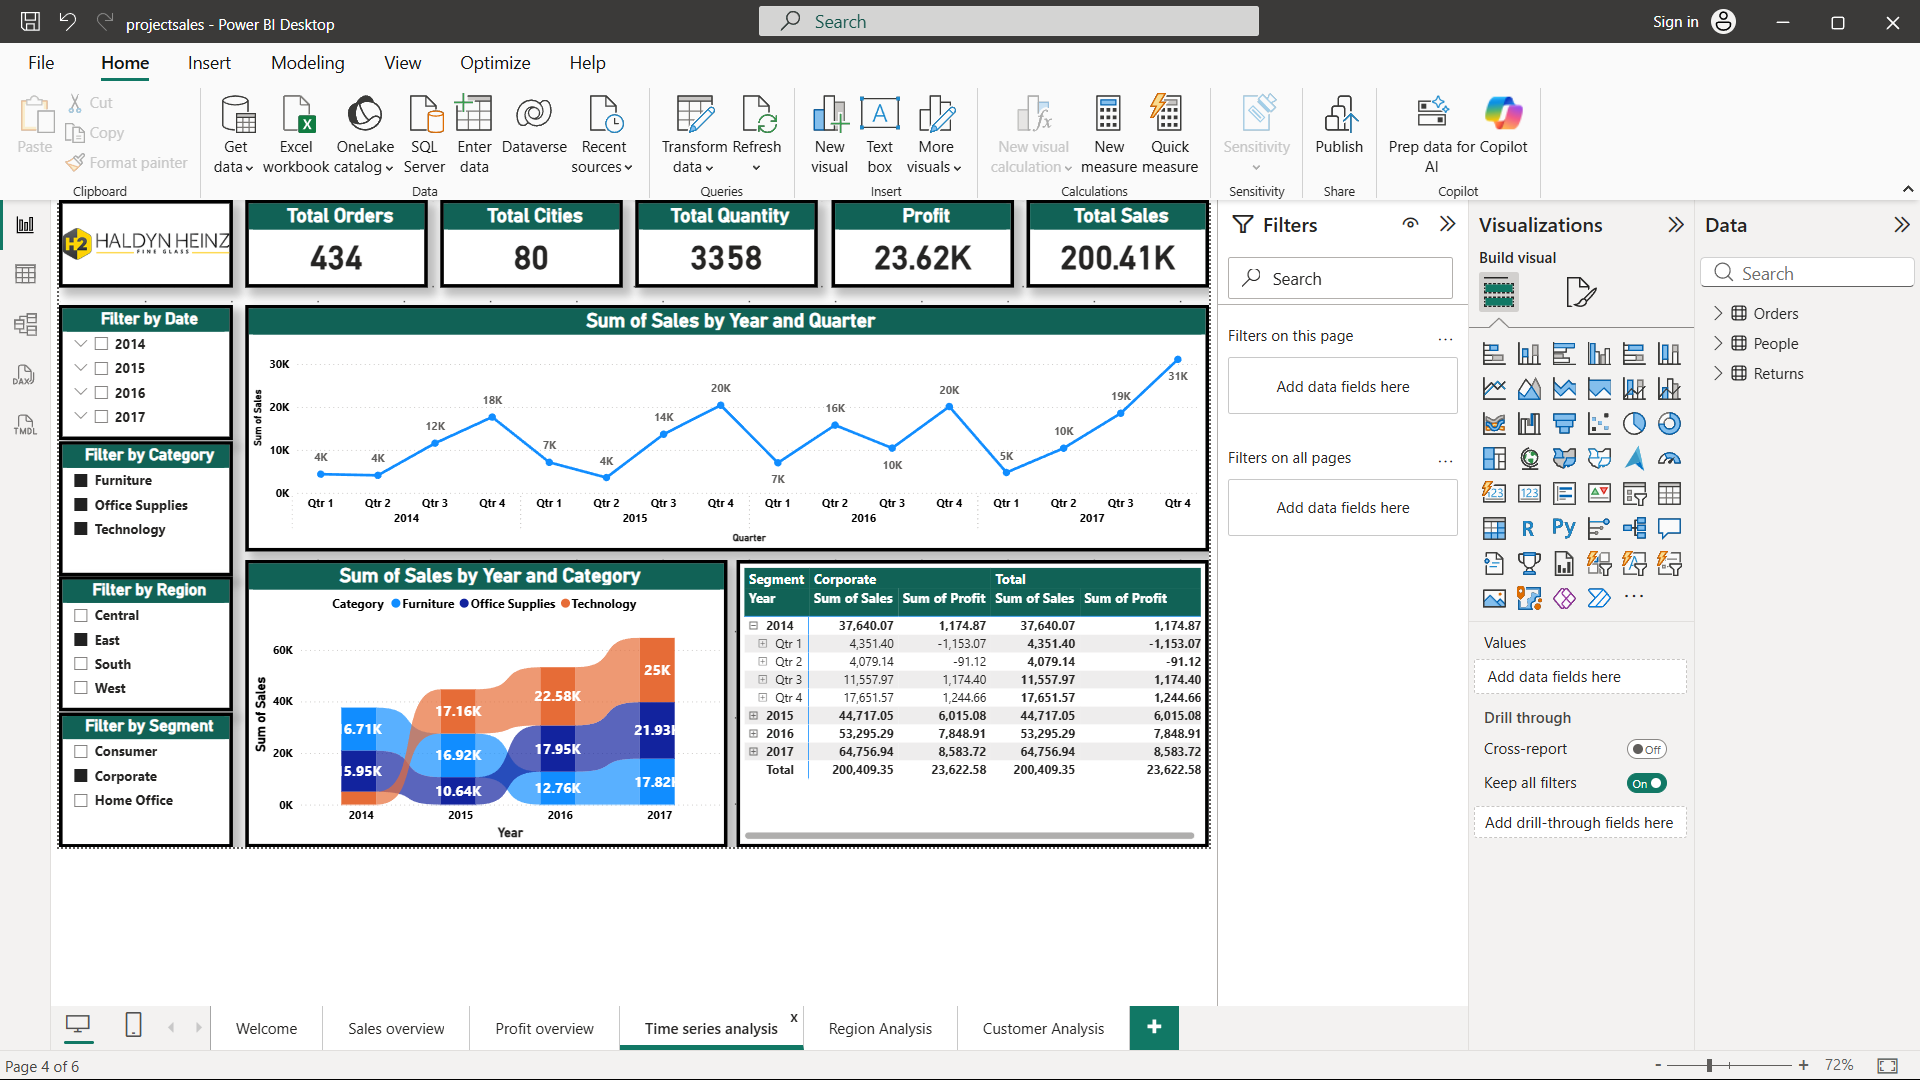

This screenshot's page, from the dashboard's own definition file:
{"tool":"powerbi","page":{"name":"Time series analysis","canvas":[1280,720],"ordinal":3},"visuals":[{"type":"image","box":[0,0,193.4,97.4],"z":0},{"type":"card","title":"Total Orders","fields":{"Values":["Count(Orders.Order ID)"]},"box":[207.3,0,203.1,97.4],"z":1000},{"type":"card","title":"Total Cities","fields":{"Values":["Count(Orders.City)"]},"box":[424.7,0,203.1,97.4],"z":2000},{"type":"card","title":"Total Quantity","fields":{"Values":["Sum(Orders.Quantity)"]},"box":[642.1,0,203.1,97.4],"z":3000},{"type":"card","title":"Profit","fields":{"Values":["Sum(Orders.Profit)"]},"box":[859.5,0,203.1,97.4],"z":4000},{"type":"card","title":"Total Sales","fields":{"Values":["Sum(Orders.Sales)"]},"box":[1076.9,0,203.1,97.4],"z":5000},{"type":"slicer","title":"Filter by Date","fields":{"Values":["Orders.Order Date.Variation.Date Hierarchy.Year","Orders.Order Date.Variation.Date Hierarchy.Quarter","Orders.Order Date.Variation.Date Hierarchy.Month","Orders.Order Date.Variation.Date Hierarchy.Day"]},"box":[0,116.9,193.4,150.3],"z":6000},{"type":"slicer","title":"Filter by Category","fields":{"Values":["Orders.Category"]},"box":[0,268.1,193.4,150.3],"z":7000},{"type":"slicer","title":"Filter by Region","fields":{"Values":["Orders.Region"]},"box":[0,419.2,193.4,150.3],"z":8000},{"type":"slicer","title":"Filter by Segment","fields":{"Values":["Orders.Segment"]},"box":[0,569.7,193.4,150.3],"z":9000},{"type":"lineChart","fields":{"Category":["Orders.Order Date.Variation.Date Hierarchy.Year","Orders.Order Date.Variation.Date Hierarchy.Quarter","Orders.Order Date.Variation.Date Hierarchy.Month","Orders.Order Date.Variation.Date Hierarchy.Day"],"Y":["Sum(Orders.Sales)"]},"box":[207.3,116.9,1072.7,274.1],"z":10000},{"type":"ribbonChart","fields":{"Category":["Orders.Order Date.Variation.Date Hierarchy.Year"],"Y":["Sum(Orders.Sales)"],"Series":["Orders.Category"]},"box":[207.3,400.7,537,320],"z":11000},{"type":"pivotTable","fields":{"Rows":["Orders.Order Date.Variation.Date Hierarchy.Year","Orders.Order Date.Variation.Date Hierarchy.Quarter","Orders.Order Date.Variation.Date Hierarchy.Month","Orders.Order Date.Variation.Date Hierarchy.Day"],"Values":["Sum(Orders.Sales)","Sum(Orders.Profit)"],"Columns":["Orders.Segment"]},"box":[754.1,400.7,525.9,320],"z":12000}]}

Visuals, with their boxes on the page's 1280x720 design canvas (x1, y1, x2, y2). These are canvas units, not pixel positions in the 1920x1080 screenshot, which may show the page scaled, cropped or inside an application window:
image: BBox(0, 0, 193, 97)
"Total Orders" card: BBox(207, 0, 410, 97)
"Total Cities" card: BBox(425, 0, 628, 97)
"Total Quantity" card: BBox(642, 0, 845, 97)
"Profit" card: BBox(860, 0, 1063, 97)
"Total Sales" card: BBox(1077, 0, 1280, 97)
"Filter by Date" slicer: BBox(0, 117, 193, 267)
"Filter by Category" slicer: BBox(0, 268, 193, 418)
"Filter by Region" slicer: BBox(0, 419, 193, 570)
"Filter by Segment" slicer: BBox(0, 570, 193, 720)
lineChart - Orders.Order Date.Variation.Date Hierarchy.Year x Orders.Order Date.Variation.Date Hierarchy.Quarter: BBox(207, 117, 1280, 391)
ribbonChart - Orders.Order Date.Variation.Date Hierarchy.Year x Sum(Orders.Sales): BBox(207, 401, 744, 721)
pivotTable - Orders.Order Date.Variation.Date Hierarchy.Year x Orders.Order Date.Variation.Date Hierarchy.Quarter: BBox(754, 401, 1280, 721)
